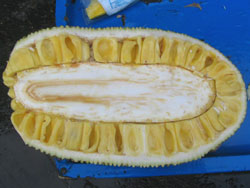jackfruit: (2, 25, 248, 169)
